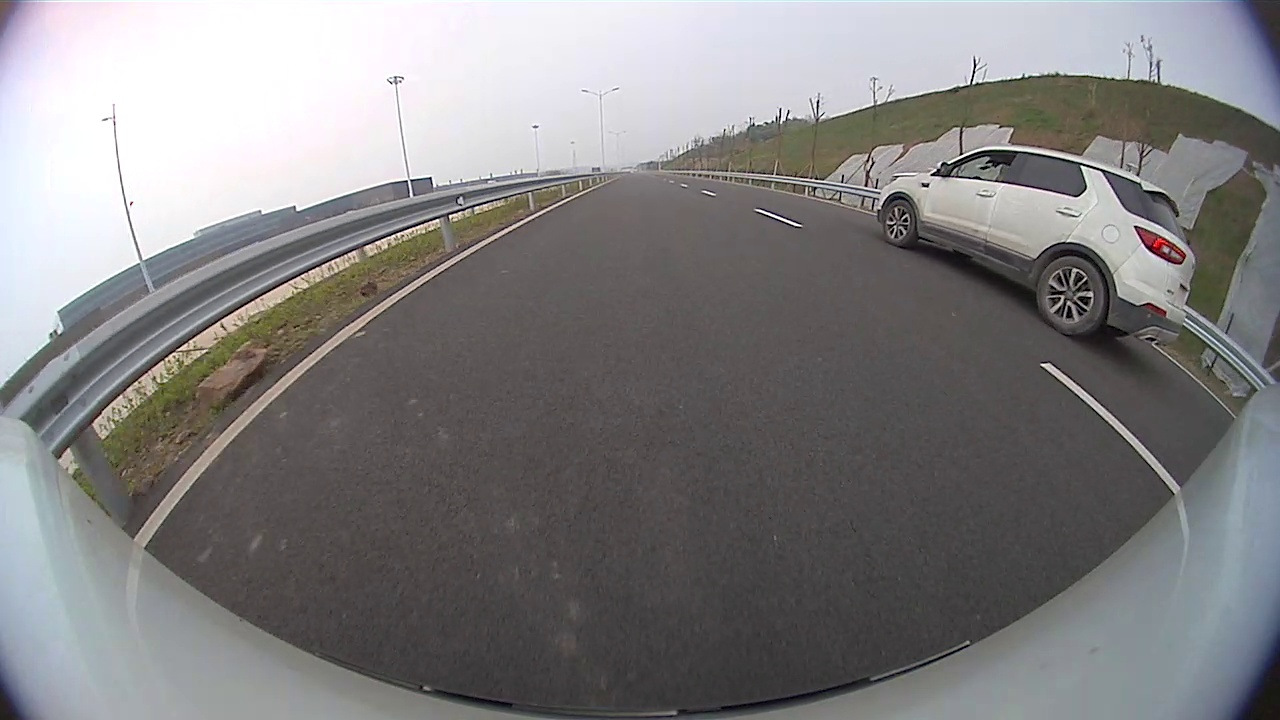car: (877, 143, 1197, 347)
front: (878, 197, 919, 250)
rear: (1032, 252, 1111, 340)
